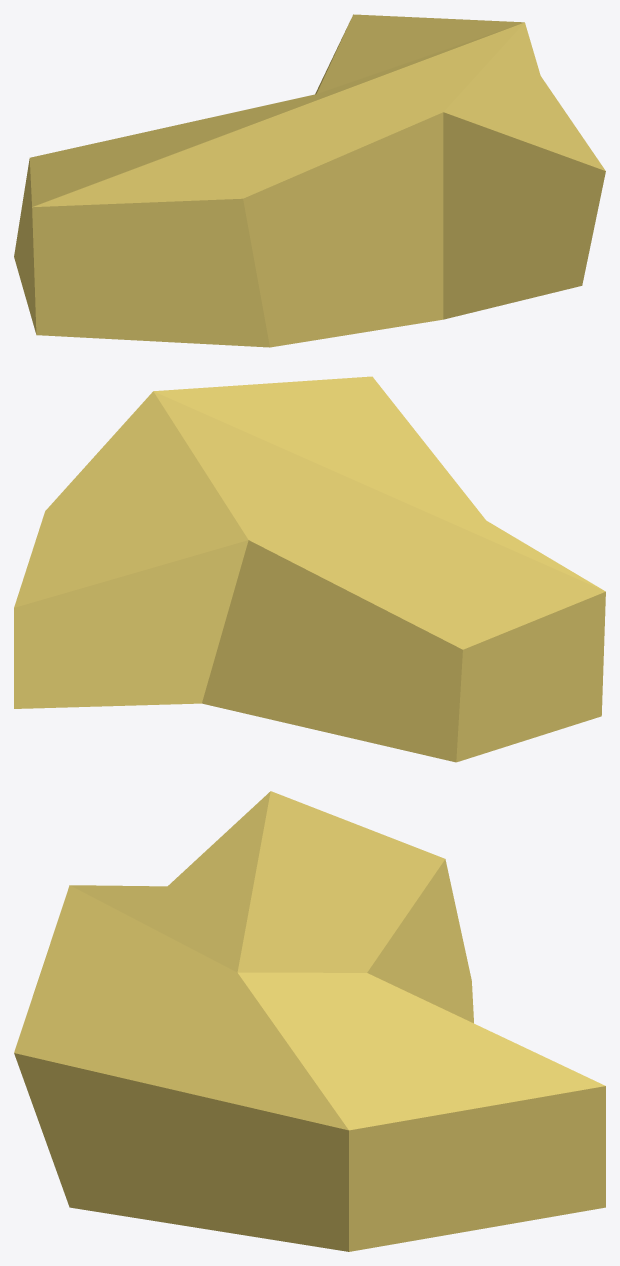
File: Rock 4.fbx
The picture shows the model from 3 angles, top to bottom: view 1: azimuth 30°, elevation 25°; view 2: azimuth 150°, elevation 25°; view 3: azimuth 270°, elevation 25°; orthographic projection. The views are drawn at different scales.
Parts seen in each view (by area): view 1: Cube; view 2: Cube; view 3: Cube.
Boxes of the visible parts, left/top/right/bottom form: Cube: left=14, top=14, right=605, bottom=347; Cube: left=14, top=376, right=605, bottom=762; Cube: left=14, top=791, right=605, bottom=1251.
Size of the model in its own units: 547 by 200 by 441.
